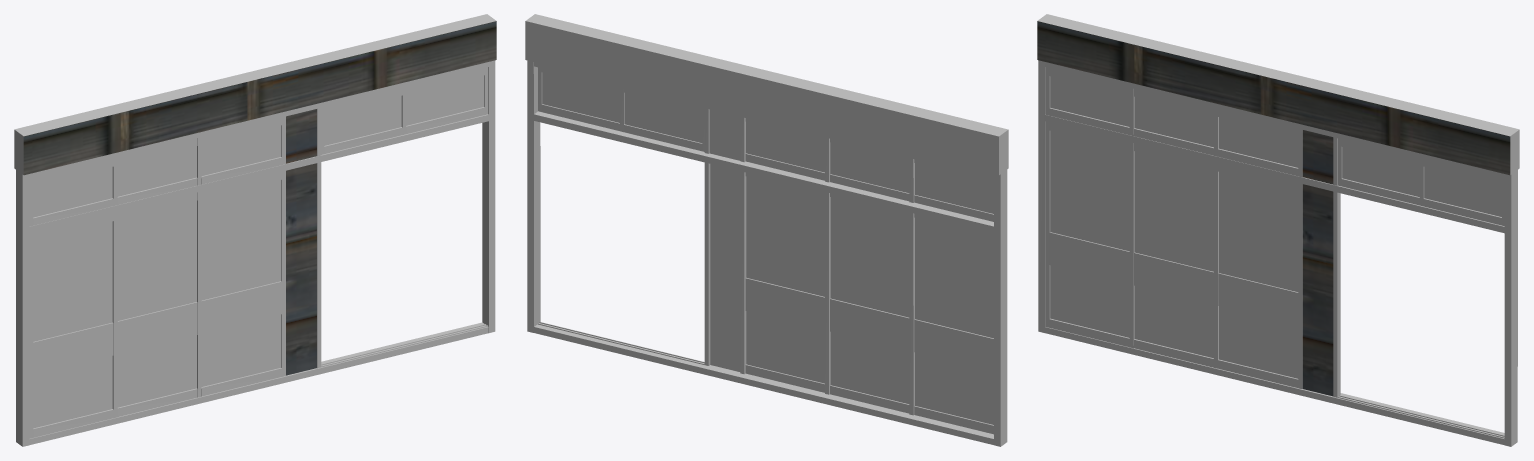
Rendered from Shop_Enter32b.fbx.
3 renders of one model, left to right at view 1: azimuth 30°, elevation 25°; view 2: azimuth 150°, elevation 25°; view 3: azimuth 330°, elevation 25°, orthographic.
Parts seen in each view (by area): view 1: Shop_Enter32b; view 2: Shop_Enter32b; view 3: Shop_Enter32b.
Part boxes in pixels (x1,y1,x2,y2): Shop_Enter32b: (14, 14, 496, 446); Shop_Enter32b: (525, 14, 1008, 446); Shop_Enter32b: (1037, 14, 1519, 446).
Bounding box in the file's own units: 5.3 × 3.33 × 0.1857.
